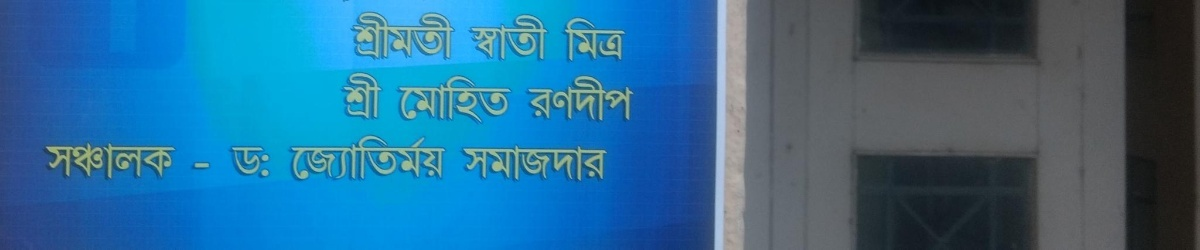text: (433, 135, 449, 189), (353, 9, 368, 66), (369, 9, 384, 66), (385, 9, 400, 66), (401, 9, 416, 66), (417, 9, 432, 66), (433, 9, 448, 66), (289, 135, 304, 189), (305, 135, 320, 189), (321, 135, 336, 189), (337, 135, 352, 189), (353, 135, 368, 189), (369, 135, 384, 189), (385, 135, 400, 189), (401, 135, 416, 189), (417, 135, 432, 189), (337, 69, 352, 121), (353, 69, 368, 121), (369, 69, 384, 121), (401, 74, 416, 126), (417, 74, 432, 126), (433, 74, 448, 126), (449, 74, 464, 126), (465, 74, 480, 126), (481, 74, 496, 126), (497, 74, 512, 126), (481, 13, 496, 63), (497, 13, 512, 63), (513, 13, 528, 63), (529, 13, 544, 63), (529, 74, 544, 124), (545, 74, 560, 124), (561, 74, 576, 124), (577, 74, 592, 124), (593, 74, 608, 124), (609, 74, 624, 124), (561, 16, 576, 63), (577, 16, 592, 63), (593, 16, 608, 63), (609, 16, 624, 63), (49, 138, 64, 184), (65, 138, 80, 184), (81, 138, 96, 184), (97, 138, 112, 184), (113, 138, 128, 184), (129, 138, 144, 184), (145, 138, 160, 184), (161, 138, 176, 184), (177, 138, 192, 184), (193, 138, 208, 184), (467, 13, 480, 63), (465, 143, 480, 186), (481, 143, 496, 186), (497, 143, 512, 186), (513, 143, 528, 186), (529, 143, 544, 186), (545, 143, 560, 186), (561, 143, 576, 186), (577, 143, 592, 186), (593, 143, 608, 186), (241, 140, 256, 181), (257, 140, 272, 181), (625, 74, 637, 124), (227, 140, 240, 181), (209, 138, 218, 184), (449, 9, 456, 66), (545, 13, 552, 63), (273, 140, 281, 181), (41, 138, 48, 184), (513, 74, 518, 126), (458, 143, 464, 186), (349, 9, 352, 66), (397, 74, 400, 126), (609, 143, 612, 186), (385, 69, 387, 121), (526, 74, 528, 124), (558, 16, 560, 63), (625, 16, 627, 63)
